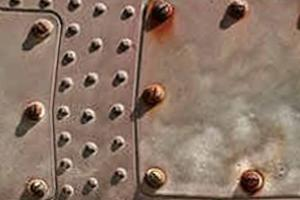rust: (147, 1, 177, 44), (138, 78, 171, 113)
